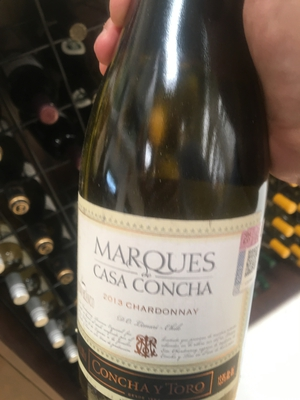marques de casa concha chardonnay: (76, 31, 259, 400)
